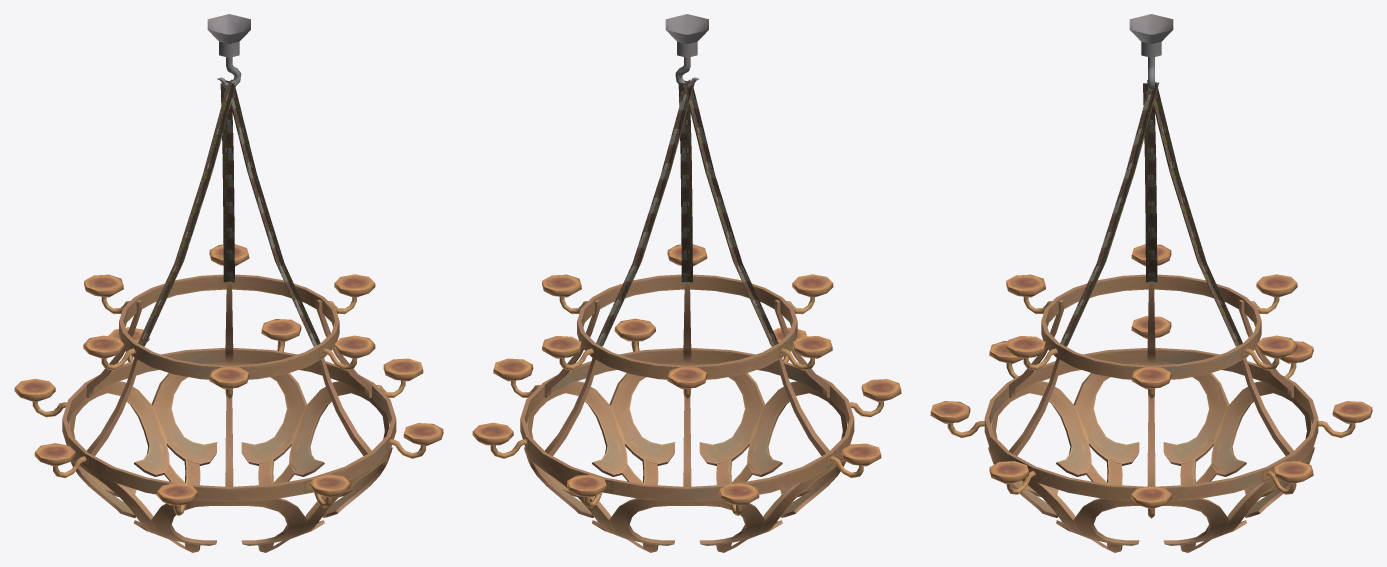
Rendered from Candelabro.obj.
3 renders of one model, left to right at view 1: azimuth 30°, elevation 25°; view 2: azimuth 150°, elevation 25°; view 3: azimuth 270°, elevation 25°, orthographic.
Visible parts, largest first — view 1: Indoor_MdProps_Library_Chandelier01_Vo_2; view 2: Indoor_MdProps_Library_Chandelier01_Vo_2; view 3: Indoor_MdProps_Library_Chandelier01_Vo_2.
Part boxes in pixels (bbox=[...]): Indoor_MdProps_Library_Chandelier01_Vo_2: bbox=[14, 14, 443, 552]; Indoor_MdProps_Library_Chandelier01_Vo_2: bbox=[472, 14, 901, 552]; Indoor_MdProps_Library_Chandelier01_Vo_2: bbox=[930, 14, 1372, 552].
Bounding box in the file's own units: 1.41 × 1.76 × 1.41.
1 material, 1 textured.
